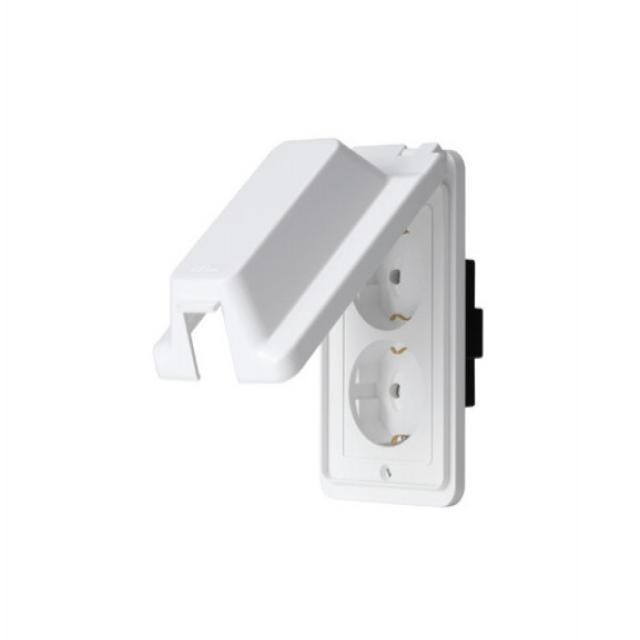typeb: (131, 74, 565, 553)
